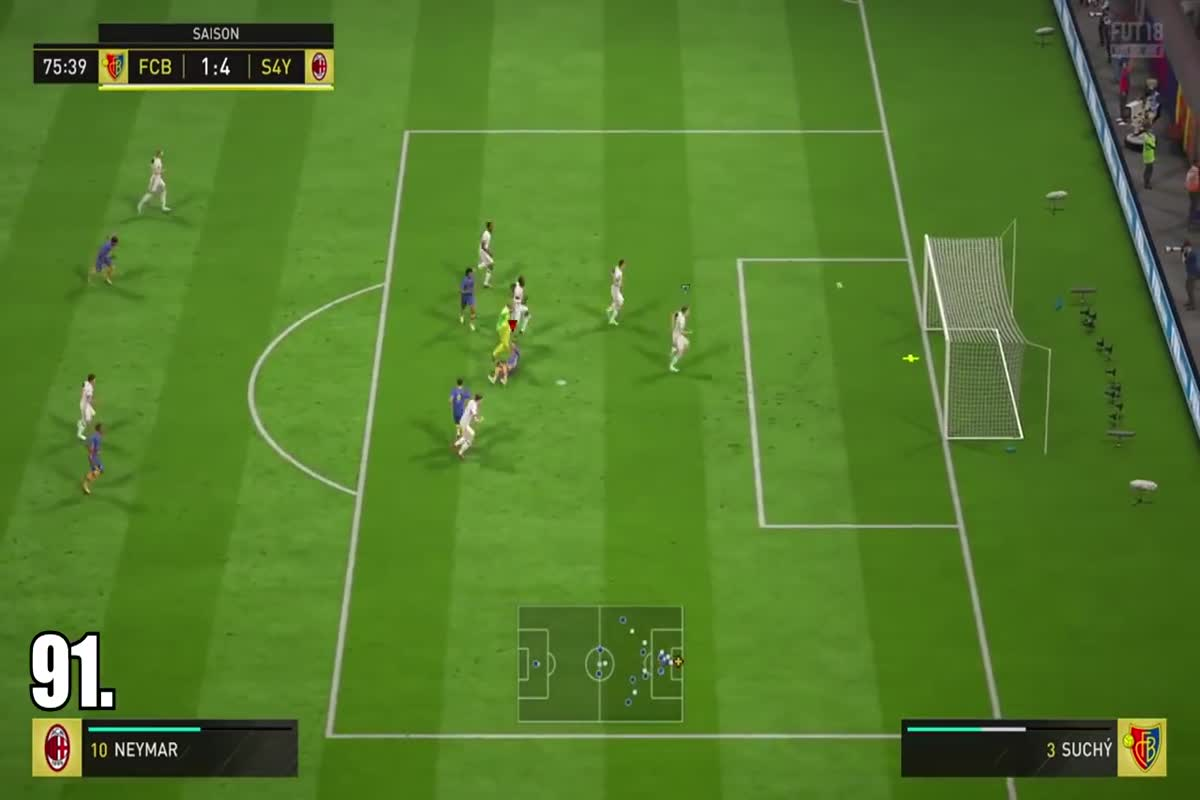ball: (824, 274, 851, 296)
